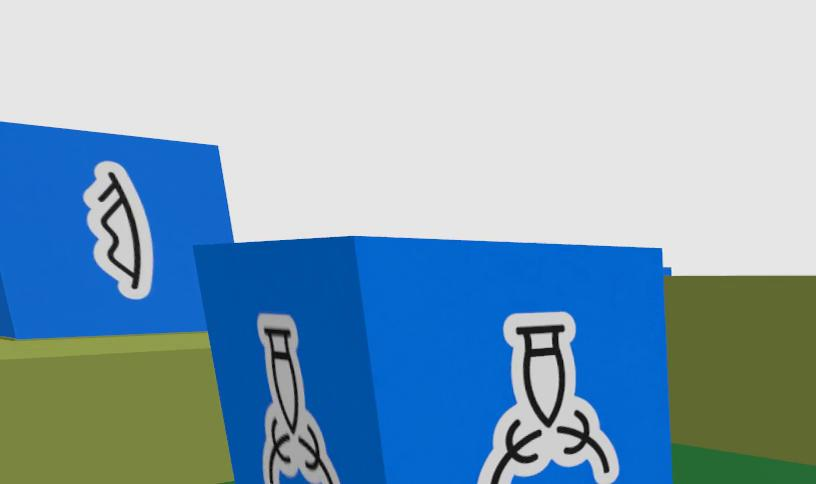KFS_REAL: (195, 237, 671, 484), (0, 122, 233, 338), (478, 312, 619, 484), (258, 314, 340, 484), (83, 161, 152, 299)
